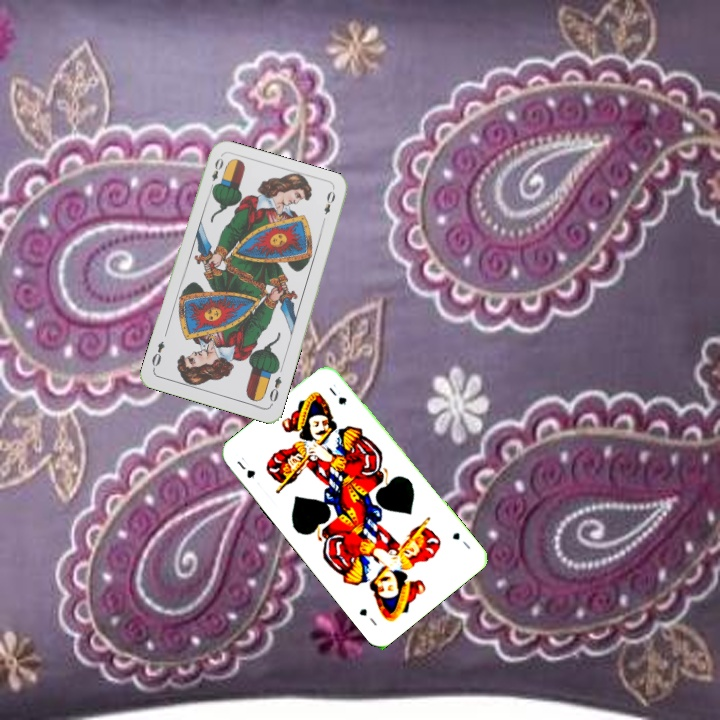EO: (206, 154, 226, 193), (265, 372, 284, 408)
GU: (233, 453, 258, 481), (448, 528, 473, 552)
